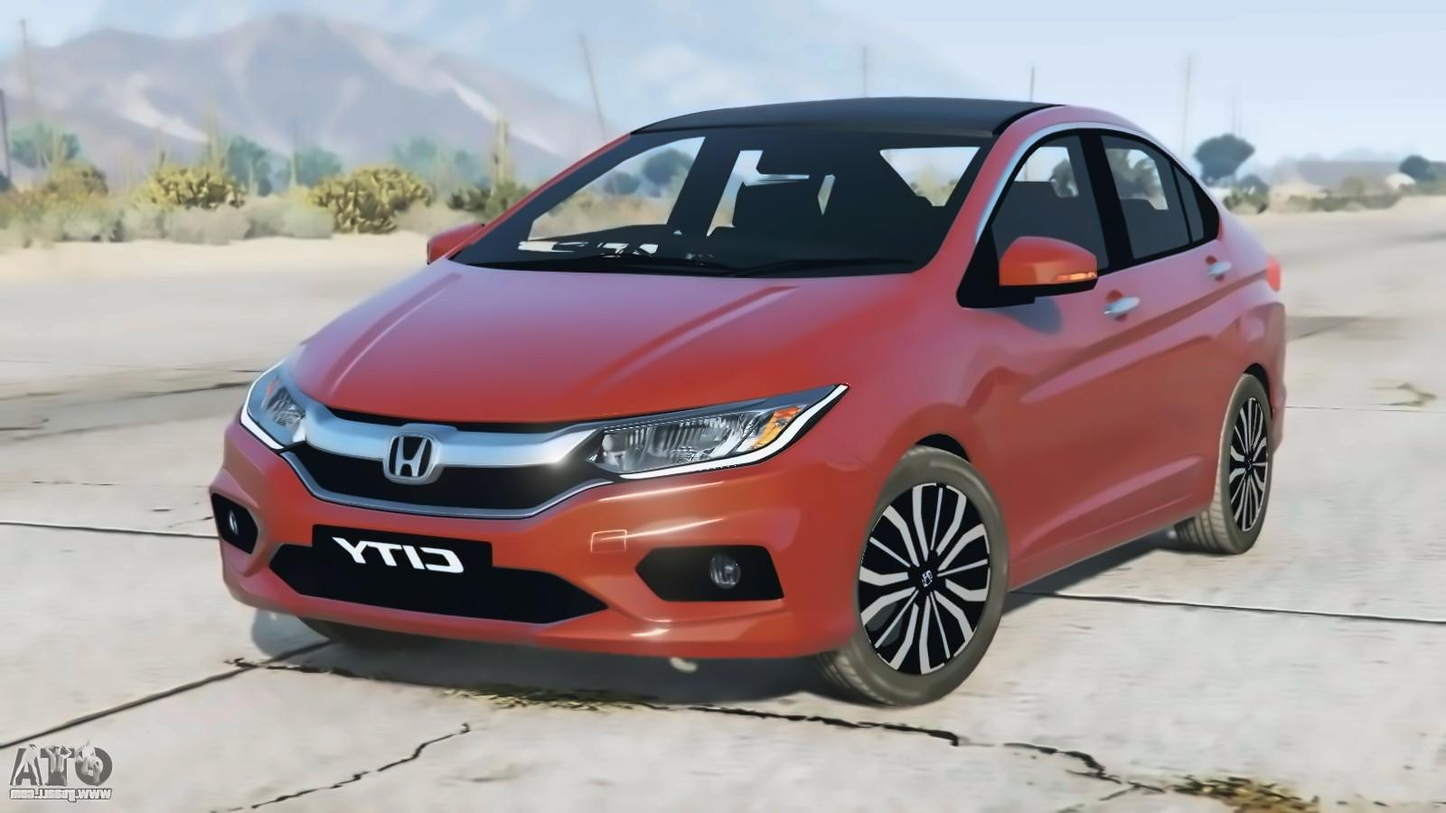Car hood: (280, 254, 917, 444)
Fender - -F-L-: (804, 241, 997, 526)
Fender - -R-L-: (1233, 278, 1295, 415)
Front bumper: (201, 423, 890, 672)
Headlight - -L-: (577, 373, 853, 491)
Headlight - -R-: (226, 348, 315, 462)
Passenger-s door - -F-L-: (995, 114, 1143, 572)
Passenger-s door - -R-L-: (1110, 116, 1247, 539)
Rear light - -L-: (1256, 233, 1299, 300)
Side bumper - -L-: (992, 477, 1223, 602)
Side mirror - -L-: (979, 226, 1108, 319)
Side mirror - -R-: (411, 215, 504, 276)
